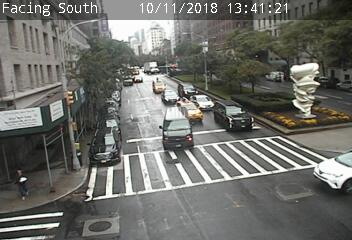car: (214, 100, 254, 132), (163, 107, 193, 149), (89, 128, 120, 166), (175, 100, 203, 122), (190, 94, 215, 111), (178, 82, 198, 98), (161, 90, 181, 105), (153, 80, 166, 94)
